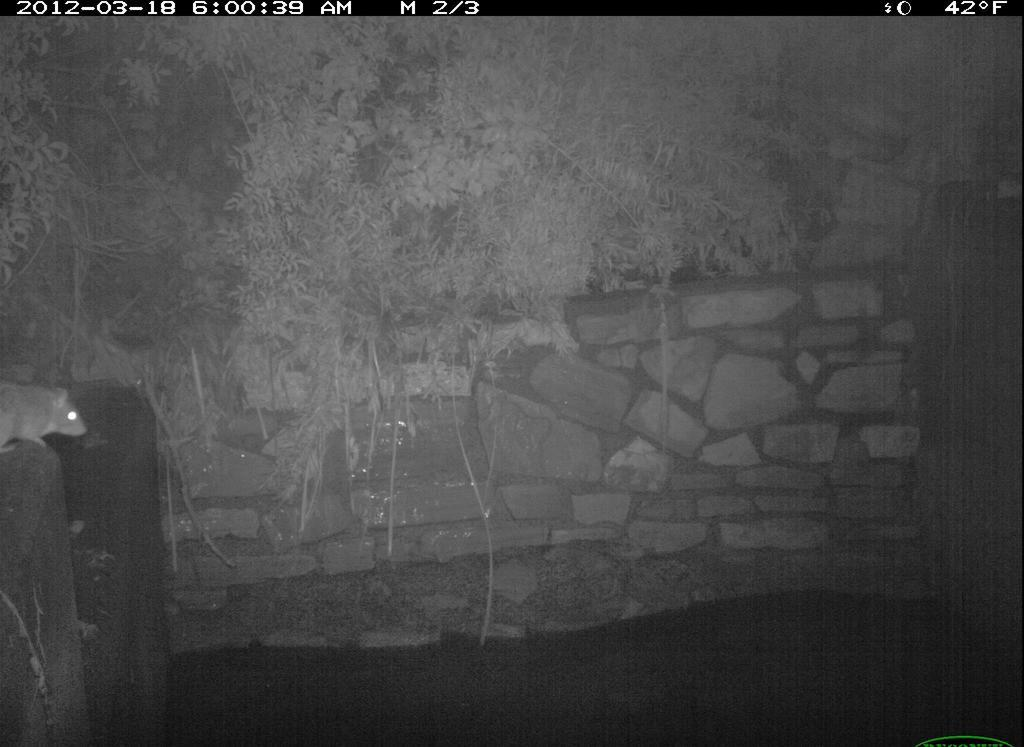rodent: (3, 377, 93, 464)
